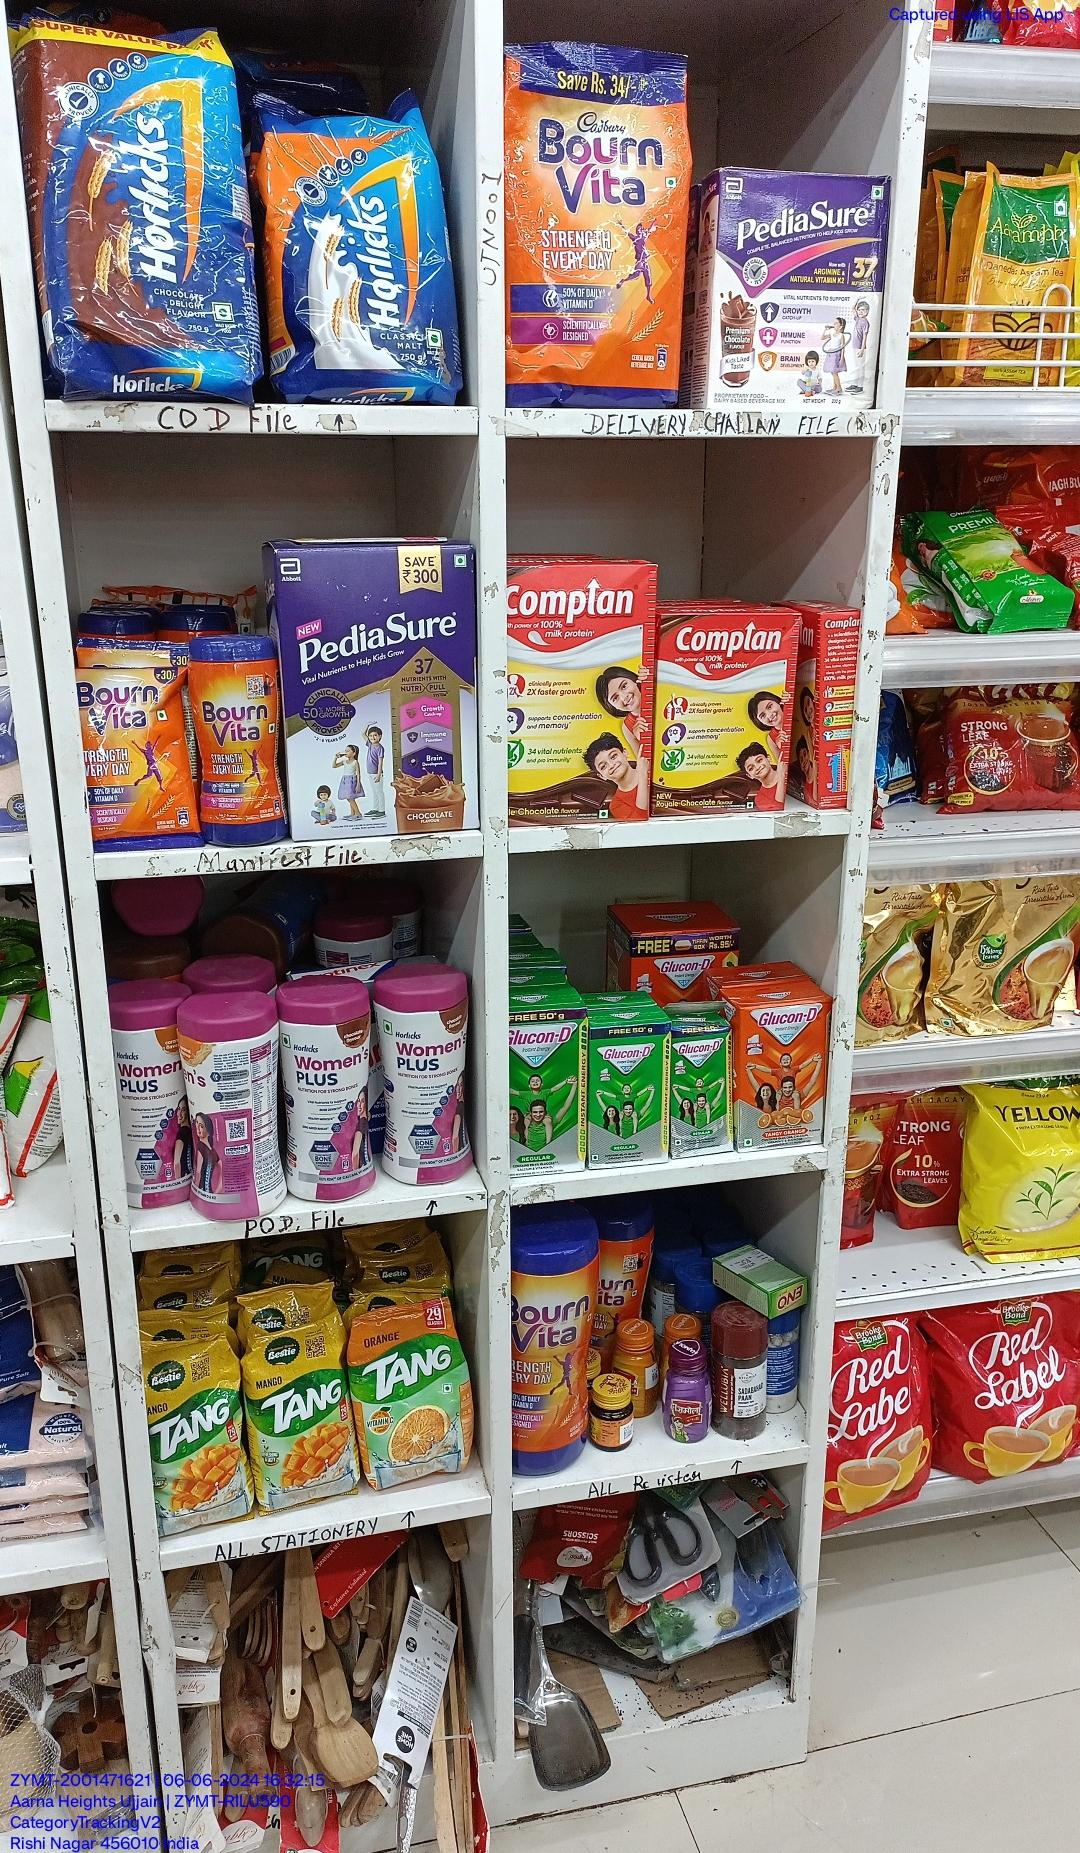BOURN_VITA_1_KG_JAR: (508, 1239, 593, 1480)
BOURN_VITA_200_G_JAR: (195, 636, 283, 849)
BOURN_VITA_75_G_POUCH: (82, 668, 192, 852)
COMPLAN_CHOCOLATE_200_GMS_PACK: (657, 610, 787, 820)
COMPLAN_CHOCOLATE_500_GMS_PACK: (507, 565, 644, 822)
HORLICK_CHOCOLATE_750_G_POUCH: (37, 13, 242, 401)
HORLICK_CLASSIC_MALT_750_G_POUCH: (267, 94, 449, 403)
PEDIASURE_CHOCOLATE_500_G_PACK: (282, 542, 469, 838)
